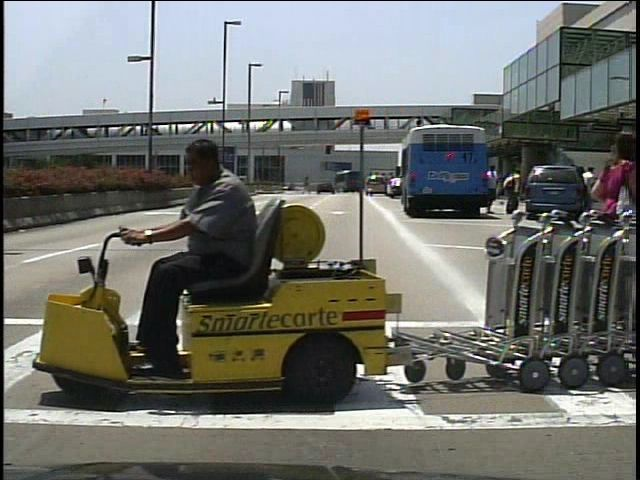person: (142, 136, 265, 375), (590, 119, 637, 350), (481, 163, 502, 216), (580, 165, 601, 214), (505, 165, 524, 218)
